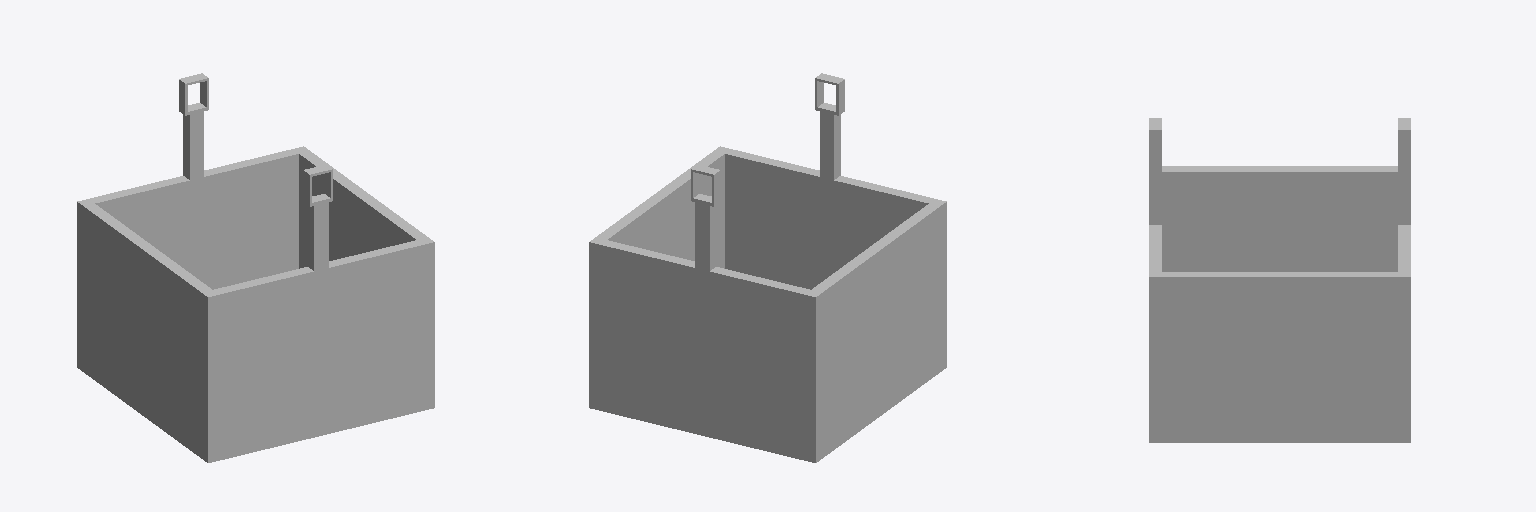
Rendered from cauldron.obj.
The picture shows the model from 3 angles: view 1: azimuth 30°, elevation 25°; view 2: azimuth 150°, elevation 25°; view 3: azimuth 270°, elevation 25°; orthographic projection.
Size of the model in its own units: 1.5 by 1.67 by 1.5.